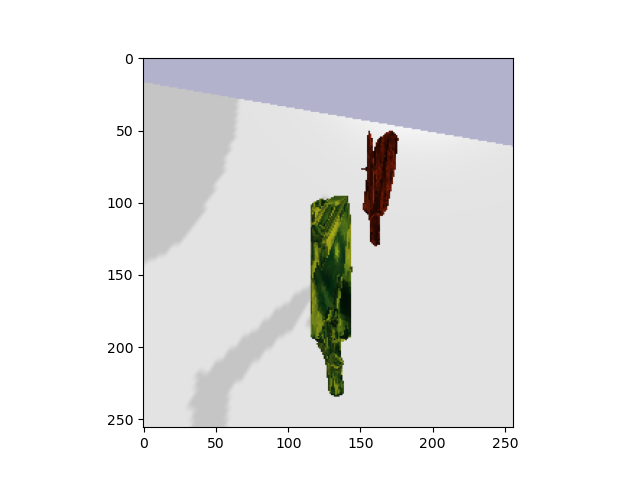v249b387_107: (360, 127, 403, 252)
v249b387_108: (305, 194, 358, 401)
v249b387_109: (302, 194, 364, 405)
